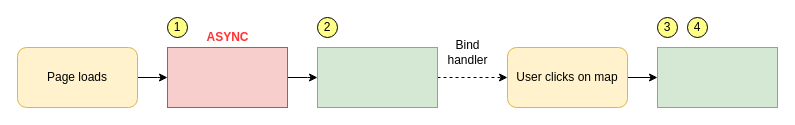
The diagram is 795 pixels wide and 125 high, and some of its shapes have lost their labels. Here are the shapes that lost their labels. From the top down, the centre of each, then its label:
At point (227, 77): "Get current location coordinats".
At point (377, 77): "Render map on current location".
At point (717, 77): "Render workout form".
